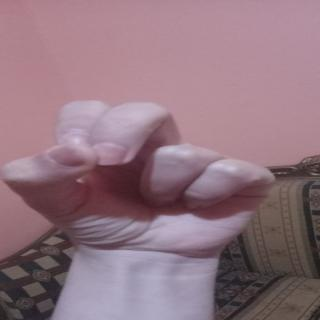QAAF: (9, 84, 294, 254)
